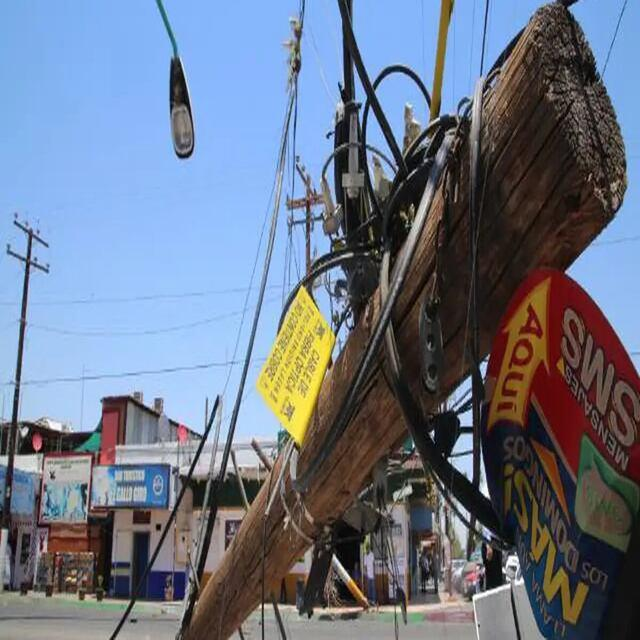Inclined Pole: (173, 3, 631, 640)
